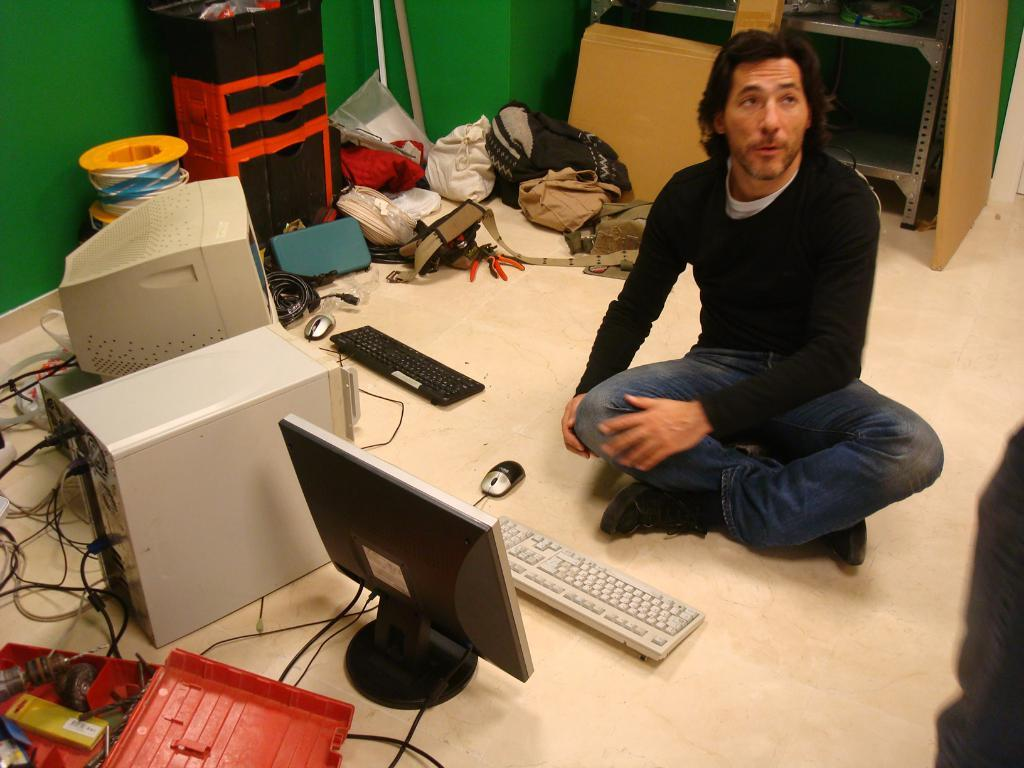Computer-keyboard: (501, 511, 707, 664), (313, 320, 485, 447)
